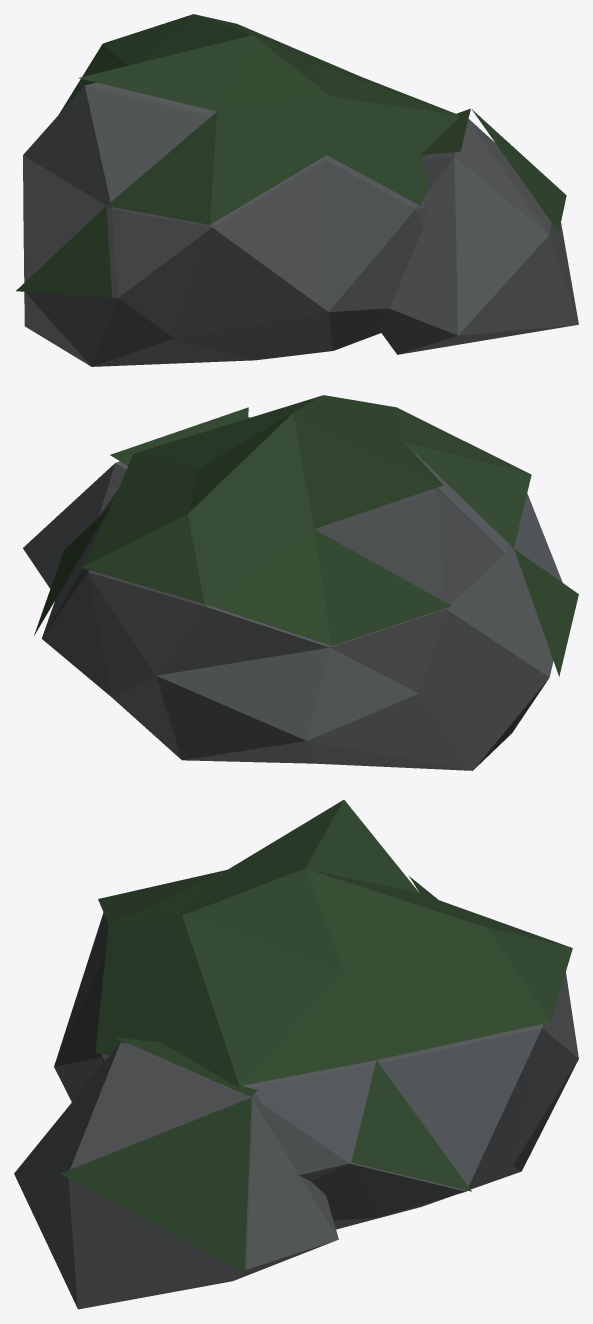
File: rock.glb
3 views of the same model, one above another, from view 1: azimuth 30°, elevation 25°; view 2: azimuth 150°, elevation 25°; view 3: azimuth 270°, elevation 25° (orthographic). The views are drawn at different scales.
Parts seen in each view (by area): view 1: rock_body, rock_moss; view 2: rock_body, rock_moss; view 3: rock_moss, rock_body.
Part boxes in pixels (x1=…): rock_body: x1=23, y1=82, x2=578, y2=366; rock_moss: x1=16, y1=14, x2=566, y2=297; rock_body: x1=23, y1=417, x2=562, y2=770; rock_moss: x1=34, y1=395, x2=578, y2=676; rock_moss: x1=60, y1=800, x2=572, y2=1272; rock_body: x1=14, y1=912, x2=578, y2=1309.
Size of the model in its own units: 1.5 by 0.7348 by 1.2.
